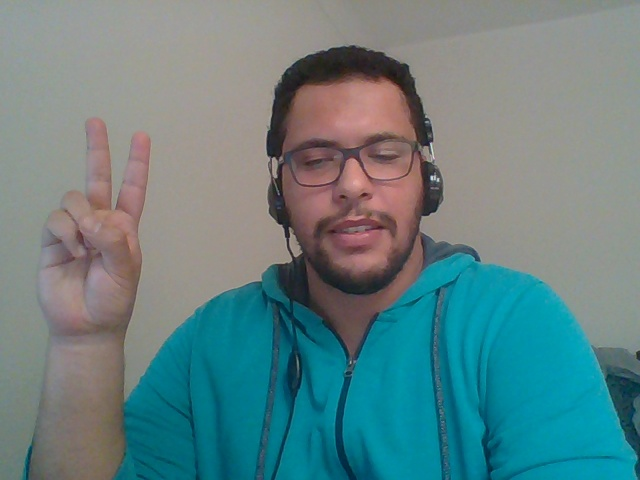vectory: (6, 107, 170, 378)
